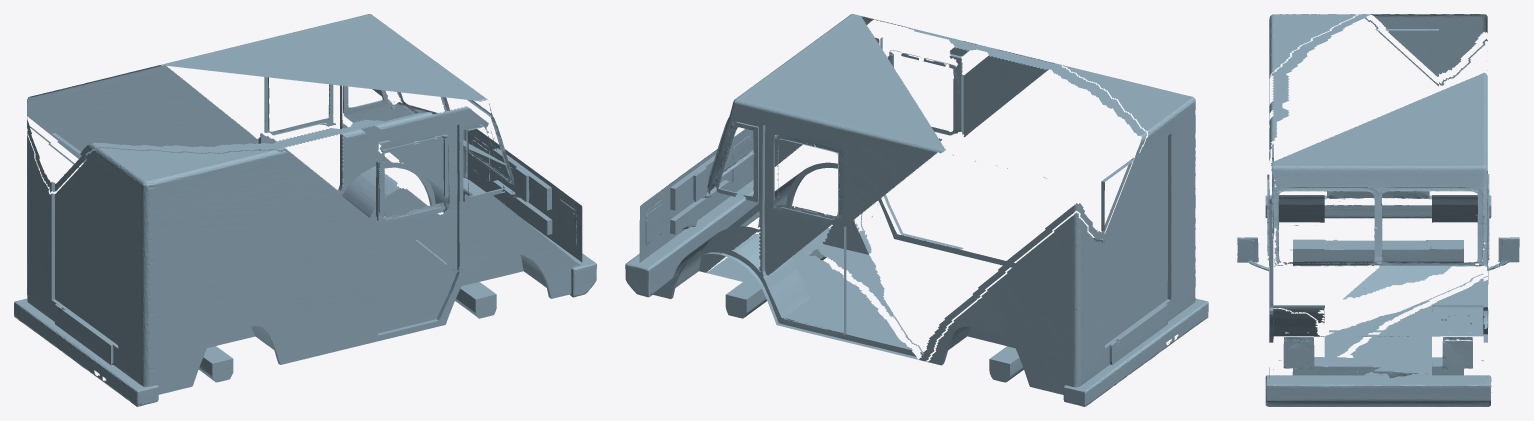
Rendered from tk_volB.glb.
3 renders of one model, left to right at view 1: azimuth 30°, elevation 25°; view 2: azimuth 150°, elevation 25°; view 3: azimuth 270°, elevation 25°, orthographic. The views are drawn at different scales.
Parts seen in each view (by area): view 1: part0; view 2: part0; view 3: part0.
Boxes of the visible parts, x1,y1,x2,y2 form: part0: (14,14,596,406); part0: (625,14,1208,406); part0: (1237,14,1519,406).
Size of the model in its own units: 0.9983 by 0.4752 by 0.5806.
